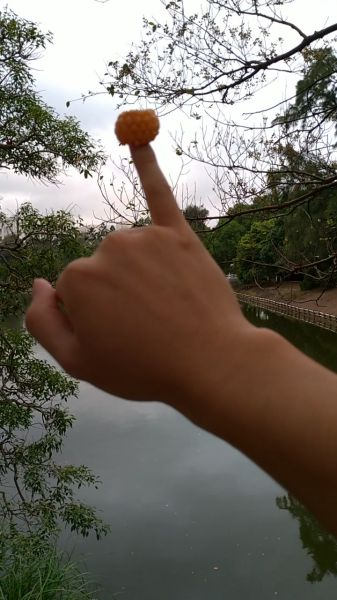eggs: (113, 109, 160, 145)
